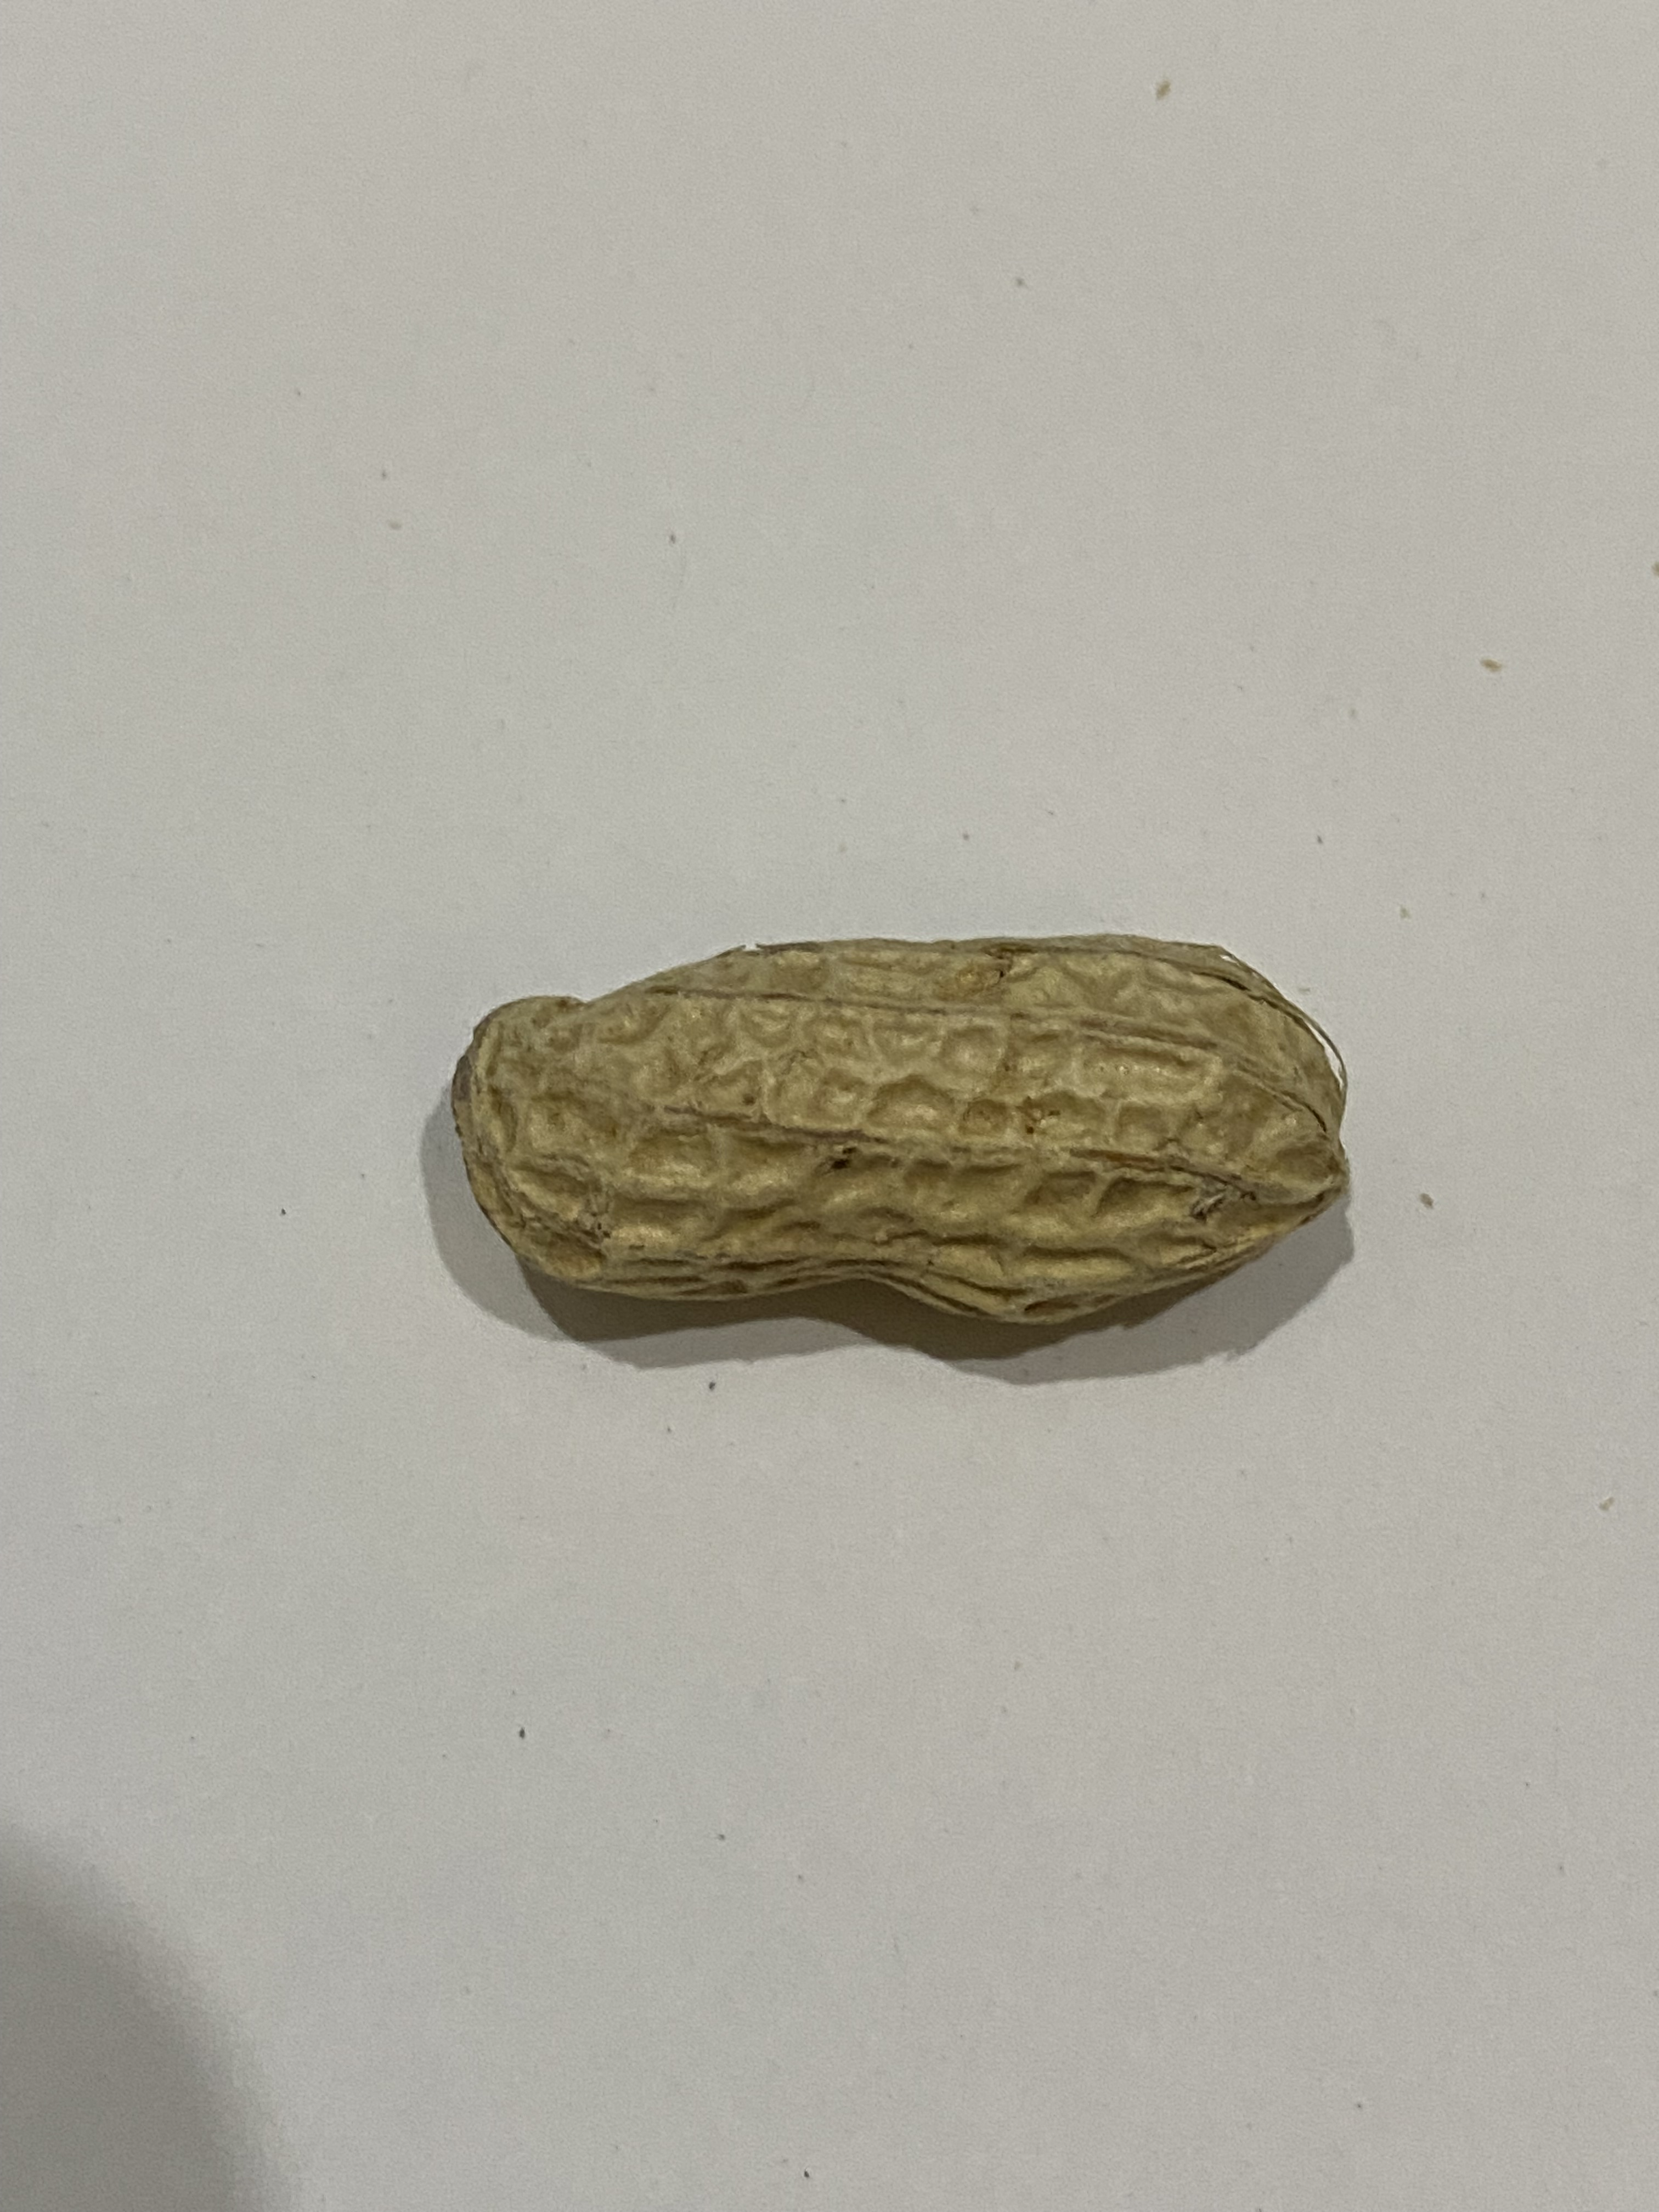kacang2: (406, 921, 1405, 1343)
